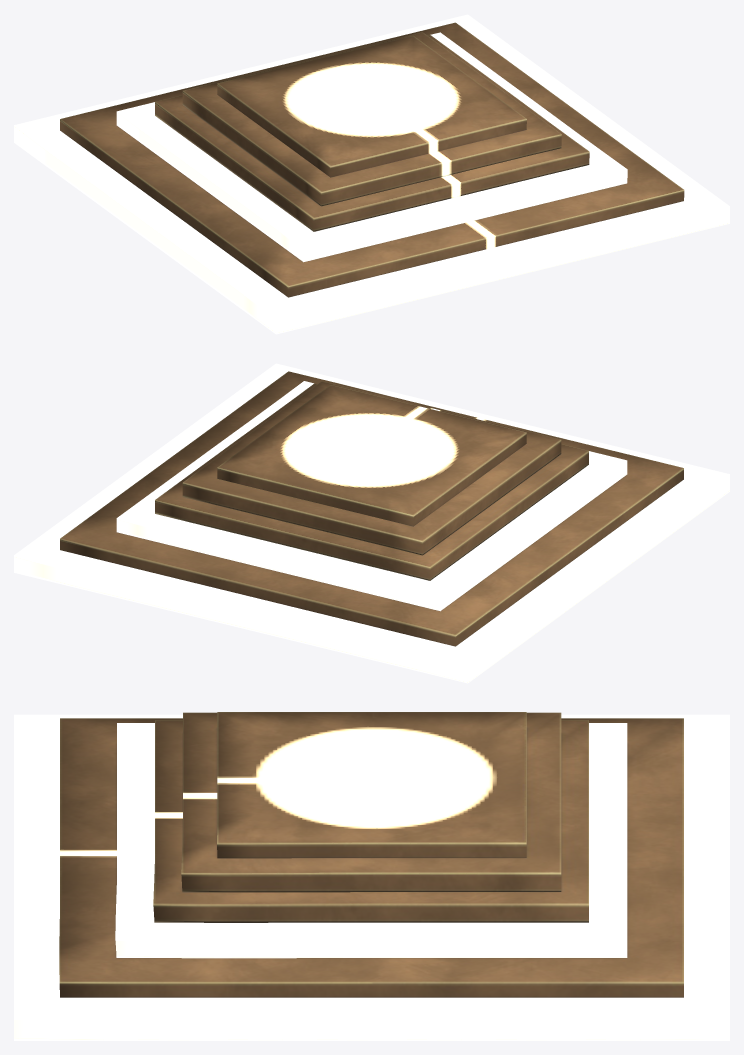
The model's file is korob.glb.
The picture shows the model from 3 angles, top to bottom: view 1: azimuth 30°, elevation 25°; view 2: azimuth 150°, elevation 25°; view 3: azimuth 270°, elevation 25°; orthographic projection. The views are drawn at different scales.
Visible parts, largest first — view 1: p; view 2: p; view 3: p.
Part boxes in pixels (x1,y1,x2,y2): p: (14,14,729,334); p: (14,363,729,683); p: (14,712,729,1040).
Size of what is drawn, in the model's own units: 2.74 by 0.4741 by 2.74.
Materials: 1 (1 with a texture image).
